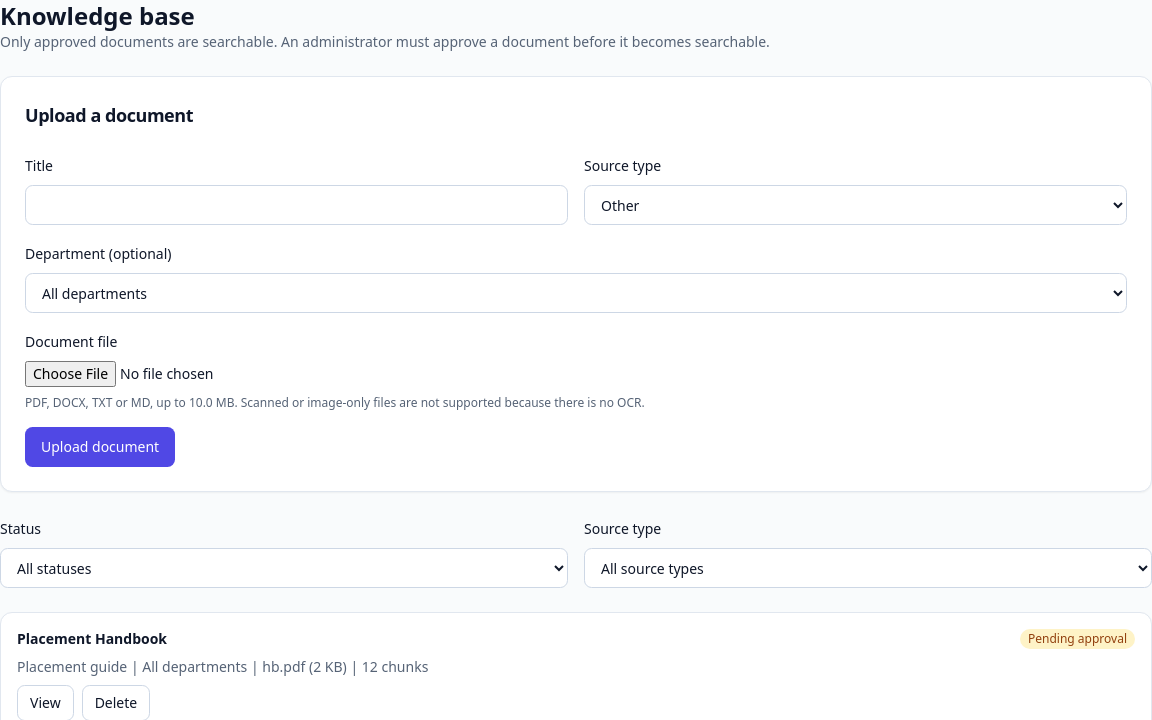
it: KnowledgeAdminPage › deletes after confirmation and shows errors
Check: the text "Placement Handbook" is shown, box [17,629,167,649]
Click the button with aria-label "Delete Placement Handbook" at (116, 703), box [82,685,150,719]
(page scrolled)
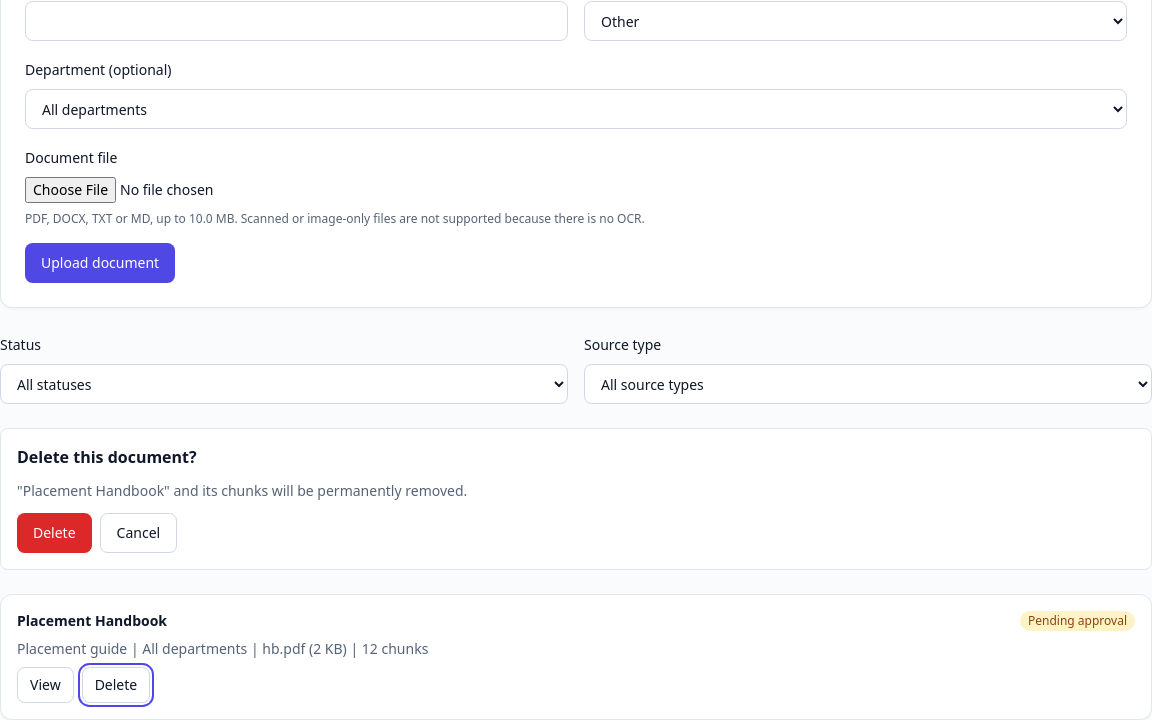
Click the button "Delete" below "Delete this document?" at (54, 533), box [17,513,92,553]
(page scrolled)
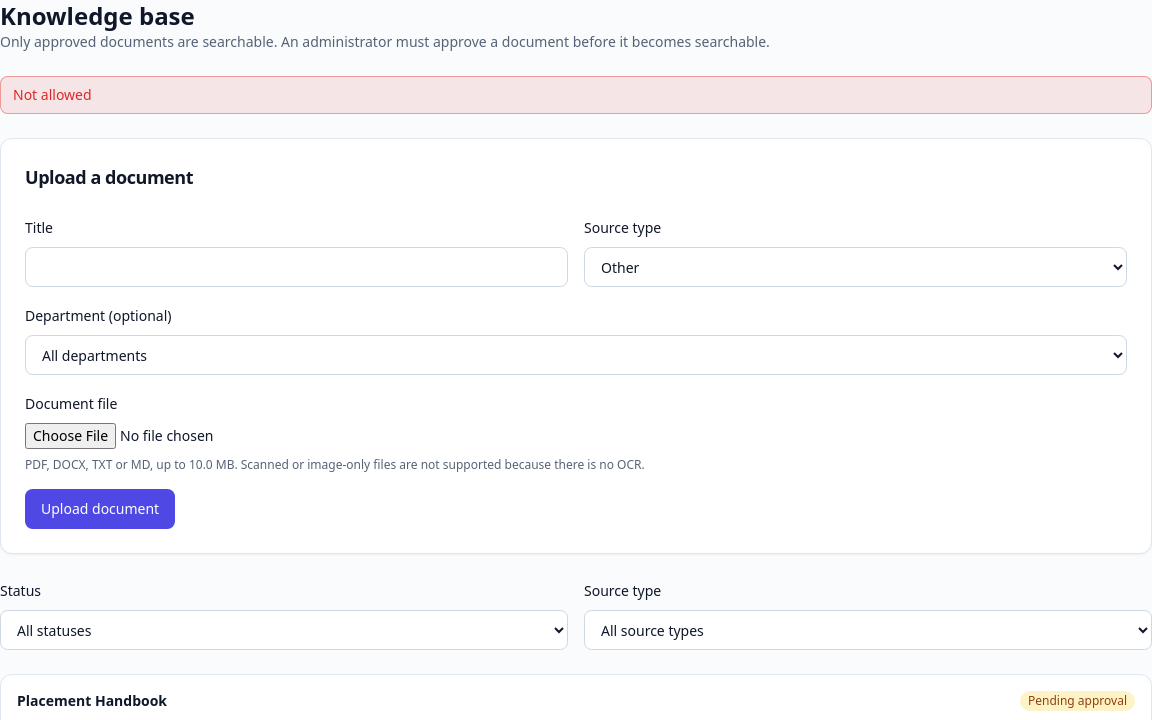
Check: the message reads "Not allowed", box [13,85,92,104]
